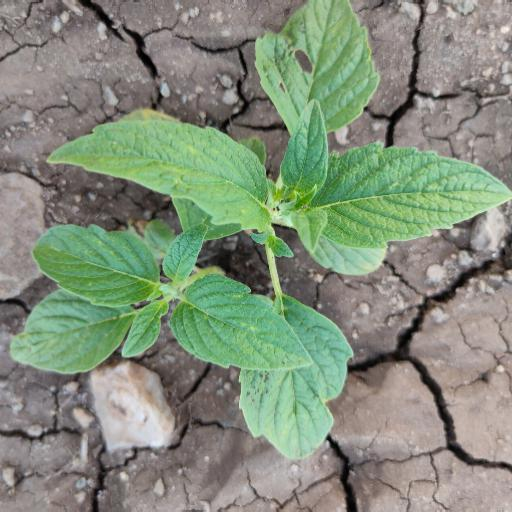crop: (20, 11, 509, 467)
